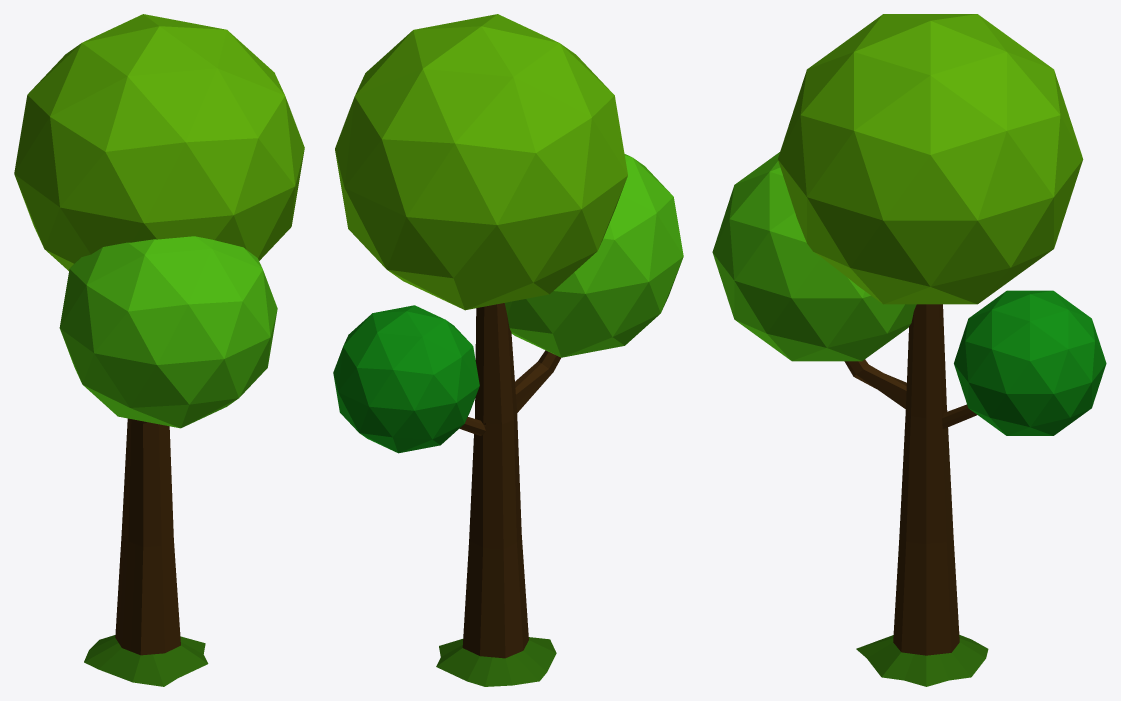
File: treeHighGreen.glb
The picture shows the model from 3 angles, left to right: view 1: azimuth 30°, elevation 25°; view 2: azimuth 150°, elevation 25°; view 3: azimuth 270°, elevation 25°; orthographic projection. The views are drawn at different scales.
Visible parts, largest first — view 1: Icosphere, Icosphere.002, Cube; view 2: Icosphere, Cube, Icosphere.002, Icosphere.001; view 3: Icosphere, Cube, Icosphere.002, Icosphere.001.
Boxes of the visible parts, box(x1,y1,x2,y2) form: Icosphere: box(14, 14, 304, 270); Icosphere.002: box(59, 236, 277, 428); Cube: box(84, 418, 208, 686); Icosphere: box(335, 14, 627, 310); Cube: box(436, 303, 560, 686); Icosphere.002: box(504, 154, 683, 357); Icosphere.001: box(333, 305, 479, 453); Icosphere: box(778, 14, 1083, 304); Cube: box(844, 304, 988, 686); Icosphere.002: box(712, 152, 916, 361); Icosphere.001: box(954, 290, 1106, 435).
Bounding box in the file's own units: 7.94 × 18.61 × 10.32.
